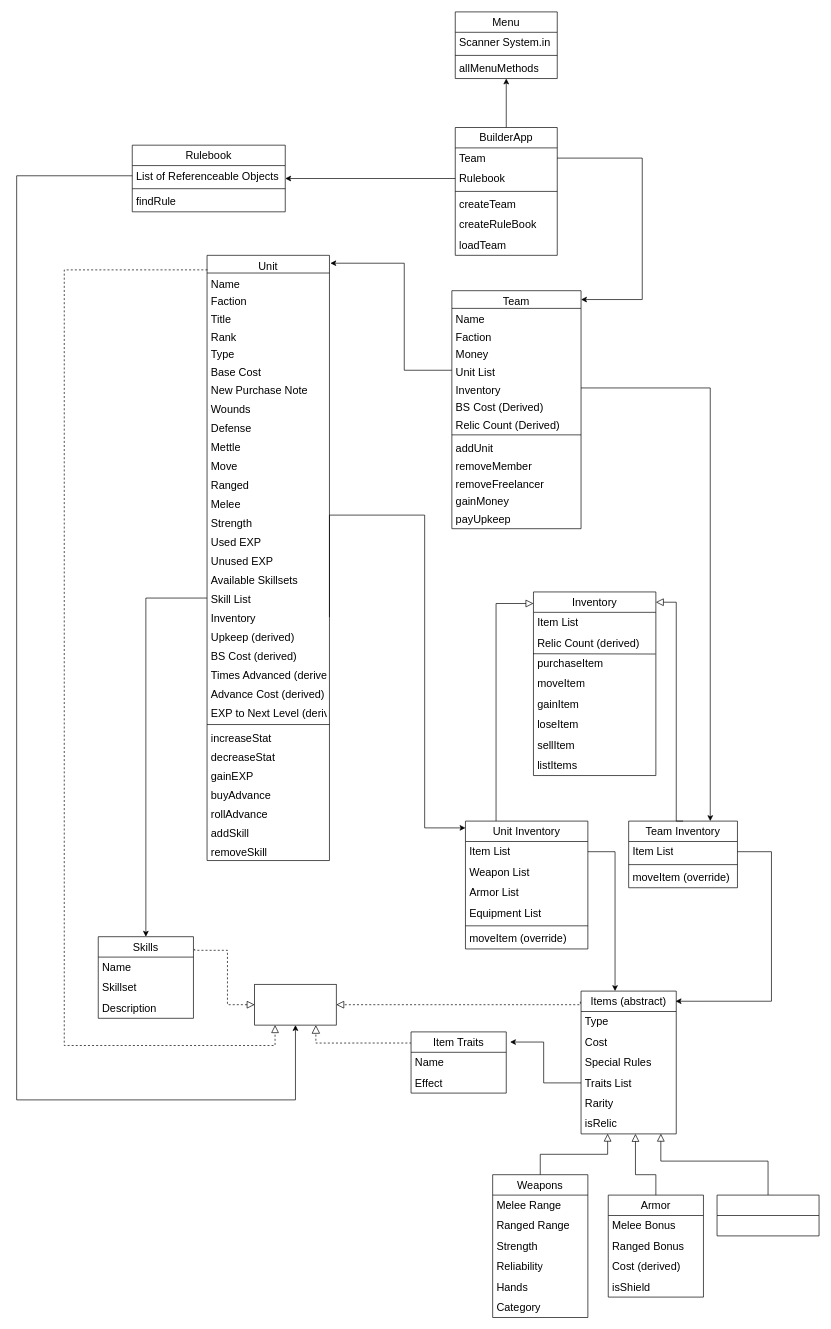
This 831x1329 diagram has some shape labels left out. The centre of each missing label's shape, as x and y in pixels:
<Interface> Referenceable: point 295,1004
Equipment: point 767,1215
